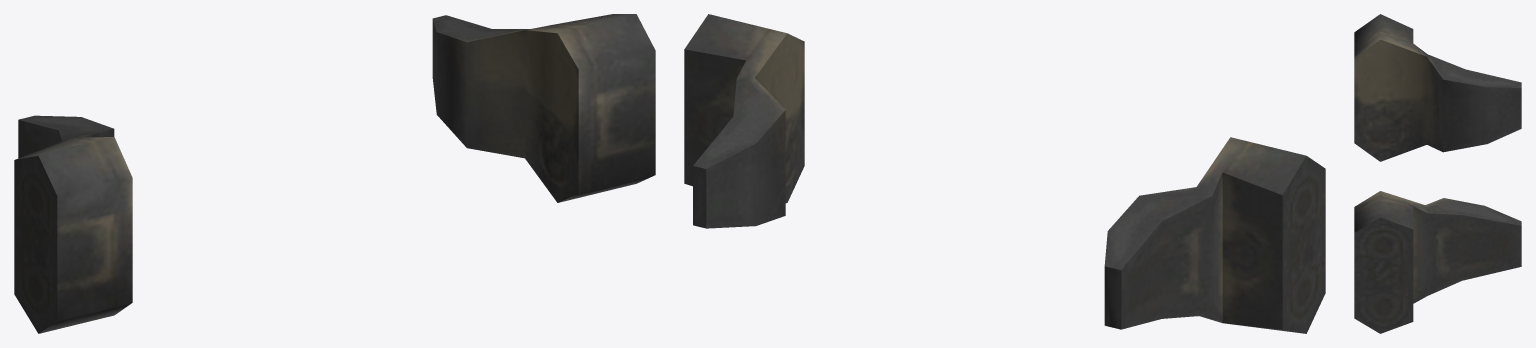
The picture shows the model from 3 angles, left to right: view 1: azimuth 30°, elevation 25°; view 2: azimuth 150°, elevation 25°; view 3: azimuth 270°, elevation 25°; orthographic projection. The views are drawn at different scales.
Parts seen in each view (by area): view 1: set_0_group_0; view 2: set_0_group_0; view 3: set_0_group_0.
Part boxes in pixels (x1,y1,x2,y2): set_0_group_0: [14, 14, 655, 333]; set_0_group_0: [684, 14, 1325, 333]; set_0_group_0: [1354, 14, 1521, 333].
Size of the model in its own units: 0.4197 by 0.1195 by 0.1483.
Materials: 1 (1 with a texture image).
